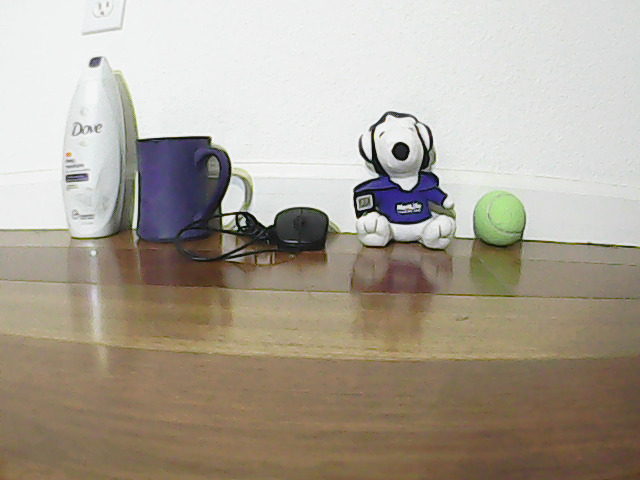ball: (481, 180, 530, 253)
mouse: (273, 200, 338, 254)
mug: (128, 123, 230, 237)
snoopy: (357, 108, 464, 246)
soap: (62, 30, 125, 239)
